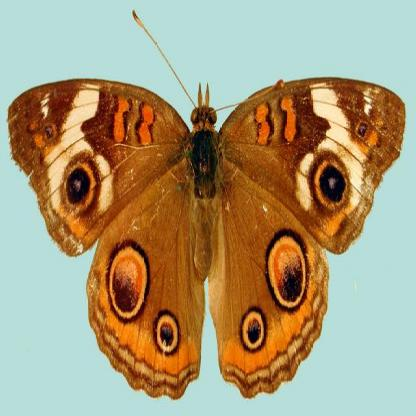Common Buckeye: (1, 1, 416, 416)
Monarch: (1, 1, 416, 416)
